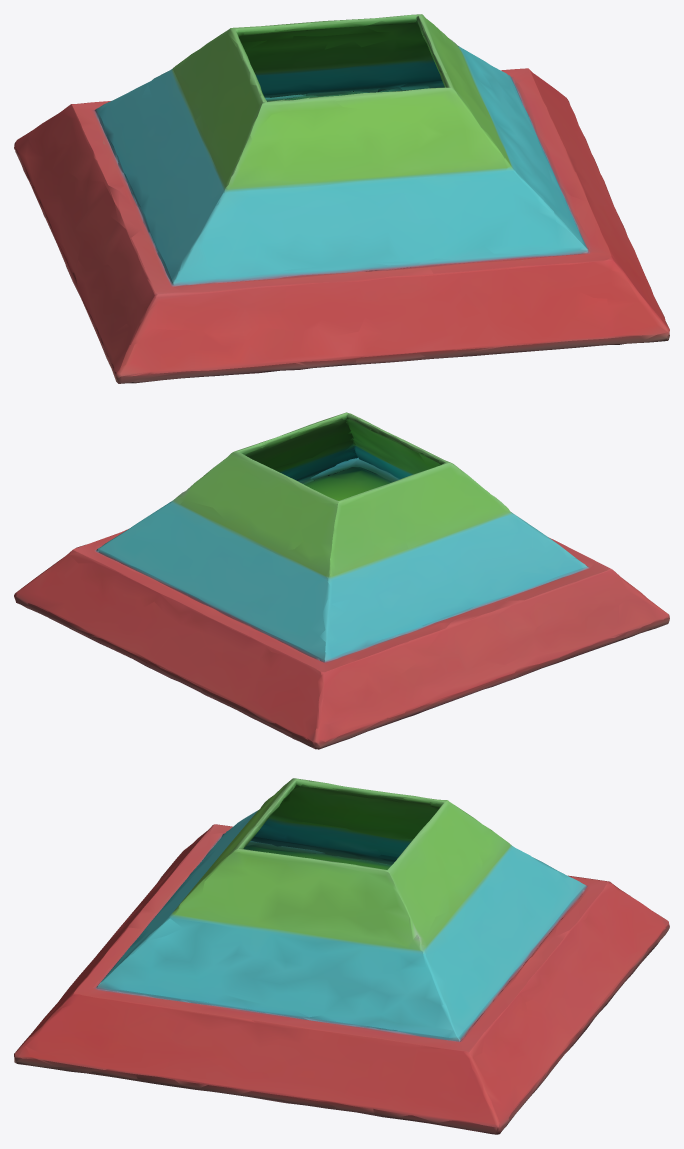
The model's file is 0016_mask_017_pyramid_stack.glb.
3 renders of one model, top to bottom at view 1: azimuth 30°, elevation 25°; view 2: azimuth 150°, elevation 25°; view 3: azimuth 270°, elevation 25°, orthographic. The views are drawn at different scales.
Parts seen in each view (by area): view 1: mask_017_object; view 2: mask_017_object; view 3: mask_017_object.
Part boxes in pixels (bbox=[...]): mask_017_object: bbox=[14, 14, 669, 383]; mask_017_object: bbox=[14, 412, 669, 749]; mask_017_object: bbox=[14, 778, 669, 1134].
Bounding box in the file's own units: 0.2774 × 0.081 × 0.2774.
